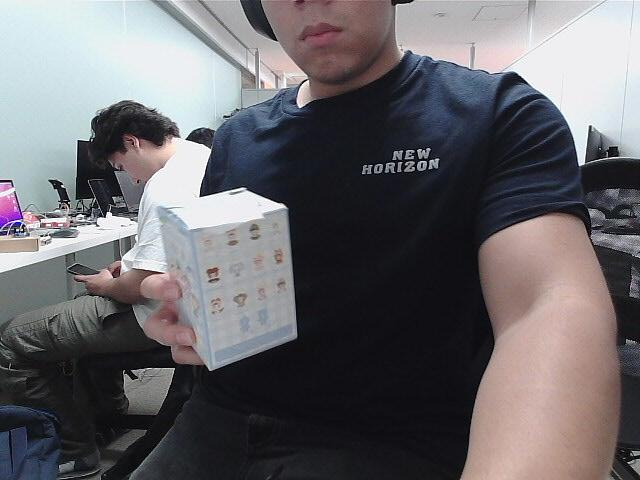Blind_box: (156, 188, 298, 370)
